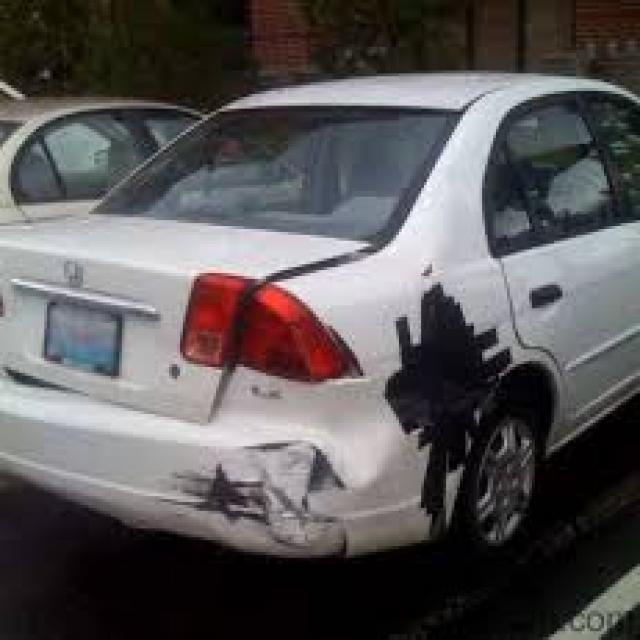minor: (361, 282, 581, 488), (154, 412, 403, 574), (468, 91, 640, 264)
